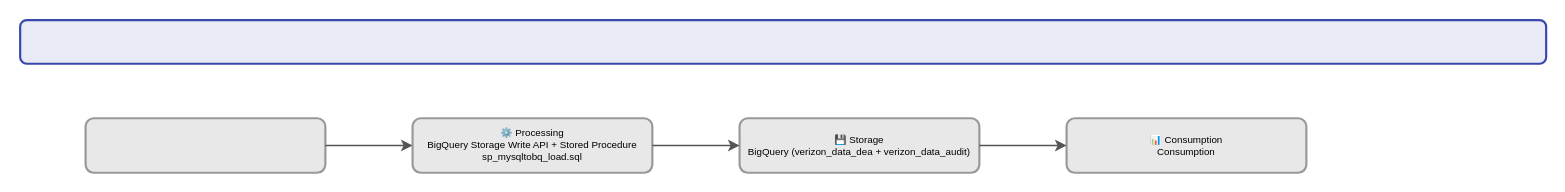
Image size: 1565x192. Some labels were removed from this diagram. Each missing label, with the box of its shape:
Data Pipeline Architecture: (19, 19, 1547, 64)
📥 Ingestion Cloud Run Jobs (Python + SQLAlchemy + Cloud SQL Python Connector): (84, 117, 326, 173)
